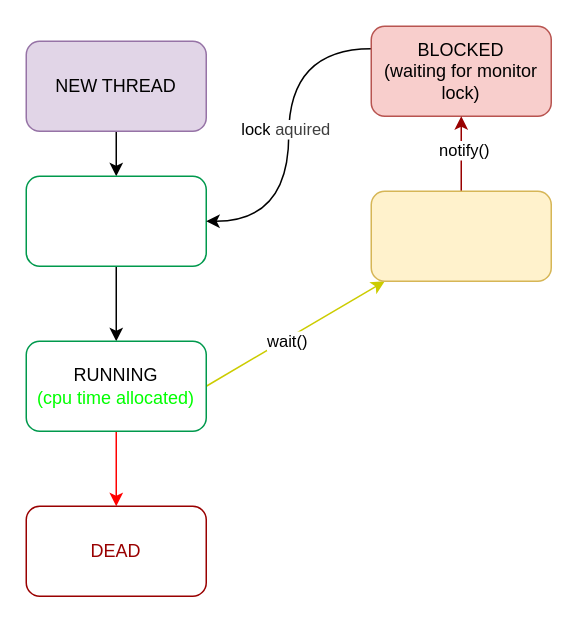
This 578x623 diagram has some shape labels left out. The shapes that lost their labels are listed below. From the top down, each one's box as (x1, y1, x2, y2) in pixels, then its label:
(25, 175, 206, 266): RUNNABLE (cpu time waited)
(370, 190, 551, 281): WAITING (for notify)
